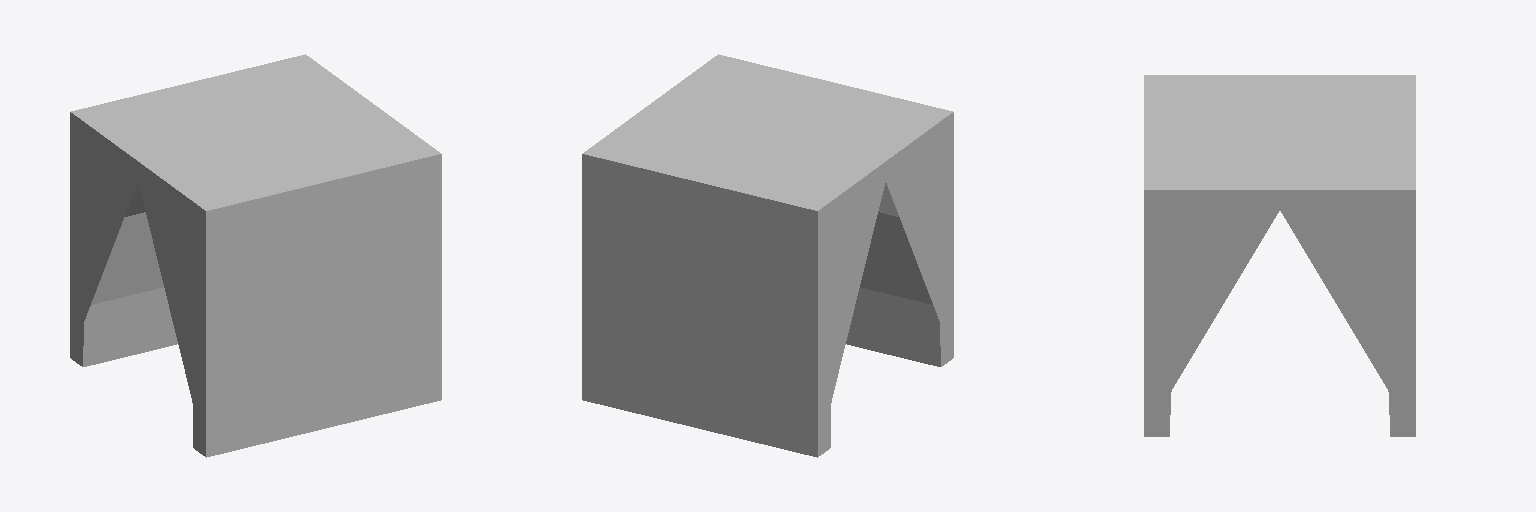
The model's file is arch2.obj.
3 views of the same model, side by side, from view 1: azimuth 30°, elevation 25°; view 2: azimuth 150°, elevation 25°; view 3: azimuth 270°, elevation 25° (orthographic).
Visible parts, largest first — view 1: Cube.001_Cube.007; view 2: Cube.001_Cube.007; view 3: Cube.001_Cube.007.
Boxes of the visible parts, x1=… form: Cube.001_Cube.007: x1=70, y1=54, x2=441, y2=457; Cube.001_Cube.007: x1=582, y1=54, x2=953, y2=457; Cube.001_Cube.007: x1=1144, y1=75, x2=1415, y2=436.
Bounding box in the file's own units: 1 × 1 × 1.